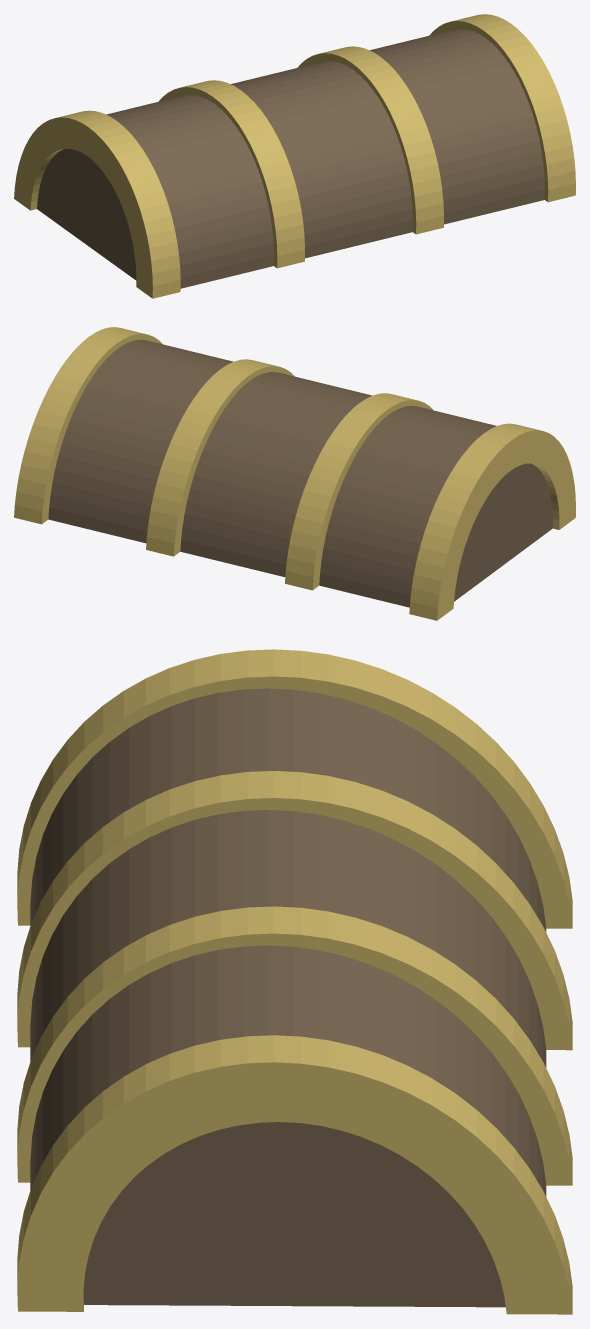
Rendered from top.glb.
3 renders of one model, top to bottom at view 1: azimuth 30°, elevation 25°; view 2: azimuth 150°, elevation 25°; view 3: azimuth 270°, elevation 25°, orthographic. The views are drawn at different scales.
Visible parts, largest first — view 1: Mesh_Mesh_head_geo.001_lambert2SG.001; view 2: Mesh_Mesh_head_geo.001_lambert2SG.001; view 3: Mesh_Mesh_head_geo.001_lambert2SG.001.
Part boxes in pixels (<box>): Mesh_Mesh_head_geo.001_lambert2SG.001: <box>14,14,575,298</box>; Mesh_Mesh_head_geo.001_lambert2SG.001: <box>14,327,575,620</box>; Mesh_Mesh_head_geo.001_lambert2SG.001: <box>17,649,572,1314</box>.
Bounding box in the file's own units: 6 × 1.71 × 3.41.
